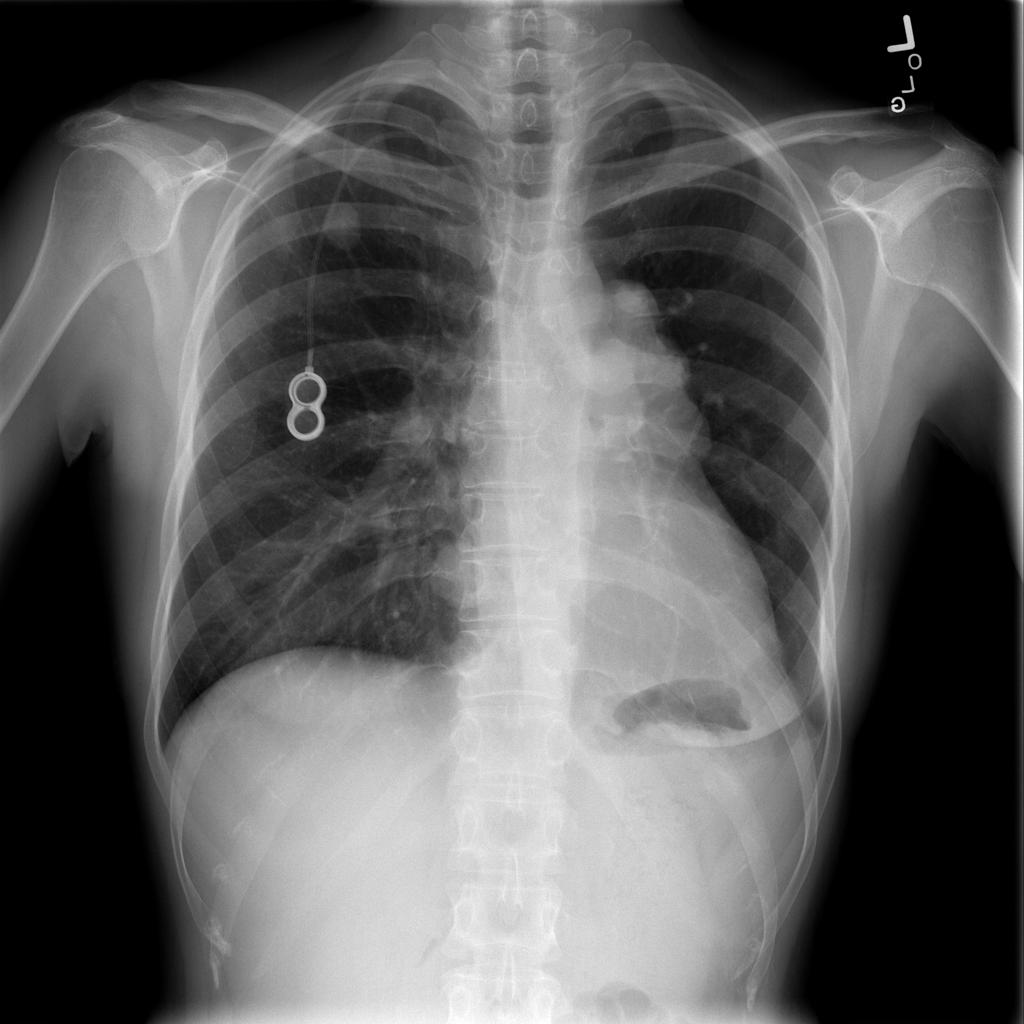nodule: (305, 187, 375, 260)
